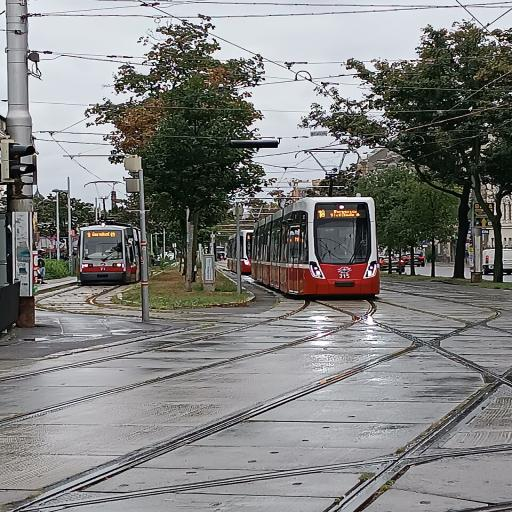Flexity: (248, 191, 385, 311)
ULF: (70, 222, 146, 286)
